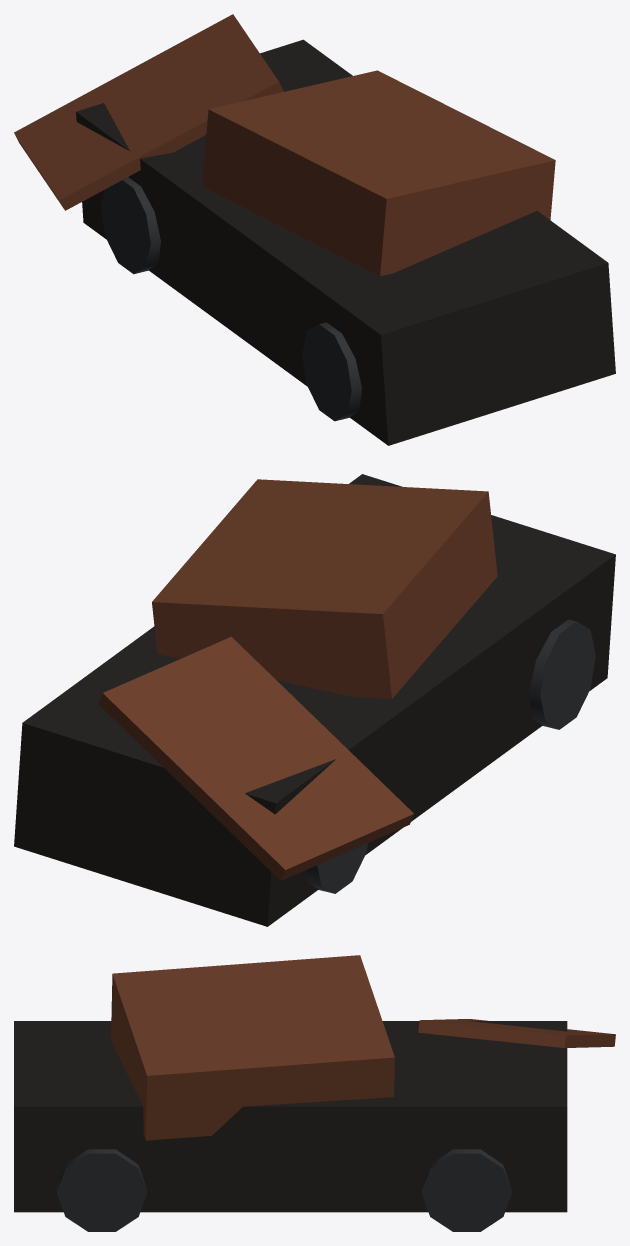
Rendered from wreck.glb.
3 renders of one model, top to bottom at view 1: azimuth 30°, elevation 25°; view 2: azimuth 150°, elevation 25°; view 3: azimuth 270°, elevation 25°, orthographic. The views are drawn at different scales.
Parts seen in each view (by area): view 1: _MeshInstance3D_117, _MeshInstance3D_118, _MeshInstance3D_119, _MeshInstance3D_122, _MeshInstance3D_120; view 2: _MeshInstance3D_117, _MeshInstance3D_118, _MeshInstance3D_119, _MeshInstance3D_122, _MeshInstance3D_120; view 3: _MeshInstance3D_117, _MeshInstance3D_118, _MeshInstance3D_123, _MeshInstance3D_121, _MeshInstance3D_119.
Part boxes in pixels (x1,y1,x2,y2): _MeshInstance3D_117: (76, 39, 615, 445); _MeshInstance3D_118: (202, 70, 555, 276); _MeshInstance3D_119: (14, 14, 283, 210); _MeshInstance3D_122: (302, 322, 361, 421); _MeshInstance3D_120: (101, 177, 160, 274); _MeshInstance3D_117: (14, 474, 615, 926); _MeshInstance3D_118: (152, 479, 497, 698); _MeshInstance3D_119: (98, 636, 413, 880); _MeshInstance3D_122: (528, 619, 595, 729); _MeshInstance3D_120: (306, 843, 367, 893); _MeshInstance3D_117: (14, 1021, 567, 1212); _MeshInstance3D_118: (111, 955, 394, 1140); _MeshInstance3D_123: (56, 1149, 147, 1231); _MeshInstance3D_121: (421, 1149, 511, 1231); _MeshInstance3D_119: (418, 1019, 615, 1047).
Bounding box in the file's own units: 2.65 × 1.56 × 4.79.
